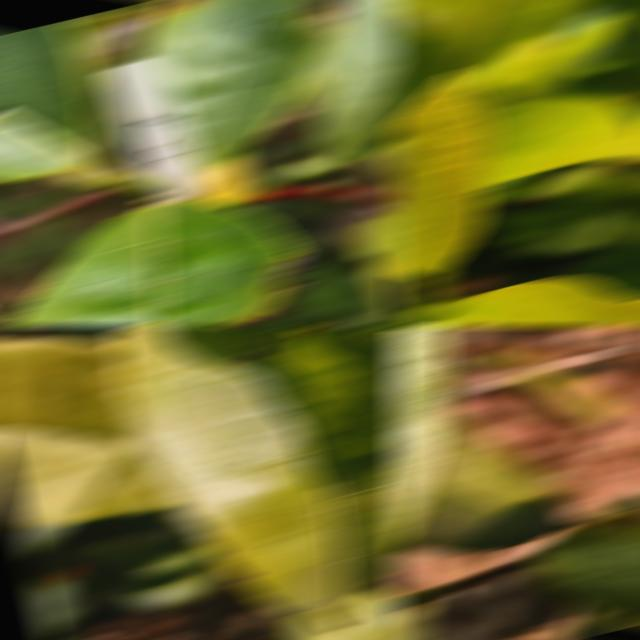Leaf: (110, 328, 402, 610), (7, 202, 304, 324), (137, 2, 348, 167), (0, 338, 173, 523), (397, 415, 572, 550), (390, 70, 493, 277), (0, 21, 110, 179), (307, 2, 402, 164), (477, 98, 640, 184), (390, 2, 595, 66), (528, 510, 640, 620), (402, 279, 640, 324), (507, 371, 619, 425), (284, 588, 402, 638), (390, 606, 436, 638)
